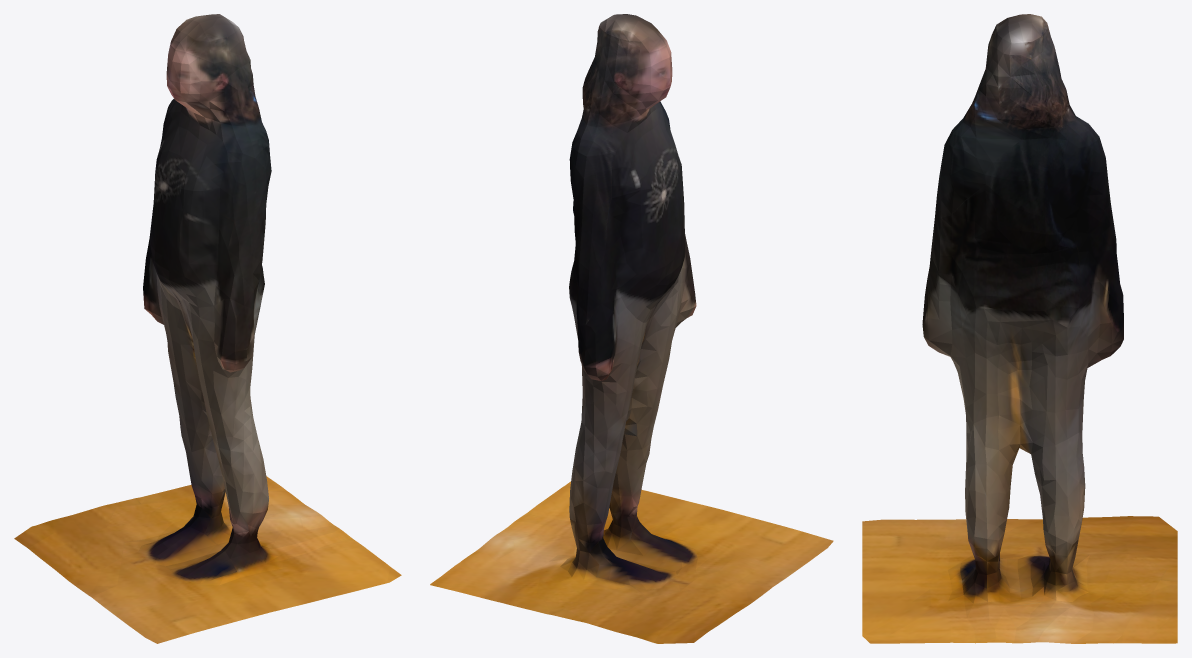
Rendered from mbo_friends_Sarah.glb.
3 renders of one model, left to right at view 1: azimuth 30°, elevation 25°; view 2: azimuth 150°, elevation 25°; view 3: azimuth 270°, elevation 25°, orthographic. The views are drawn at different scales.
Bounding box in the file's own units: 0.8218 × 1.68 × 0.8462.
1 material, 1 textured.
